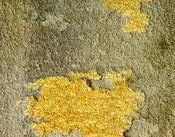Corrosion: (22, 66, 147, 137), (98, 1, 153, 33)
